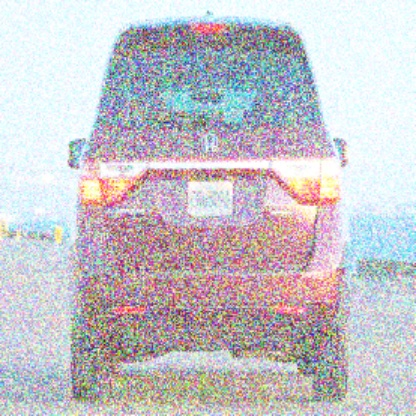Vehicle: (68, 10, 357, 408)
